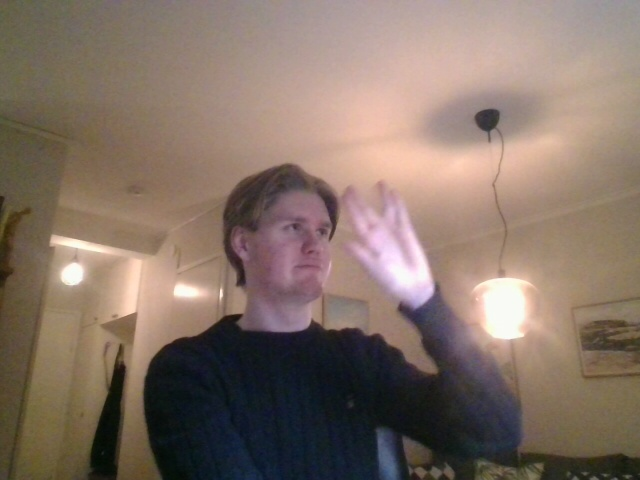LiveLong: (340, 181, 432, 302)
